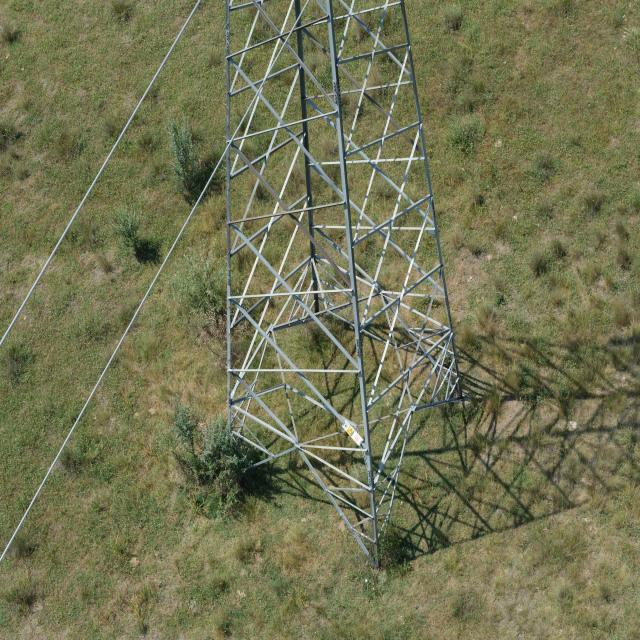direk: (225, 2, 458, 563)
